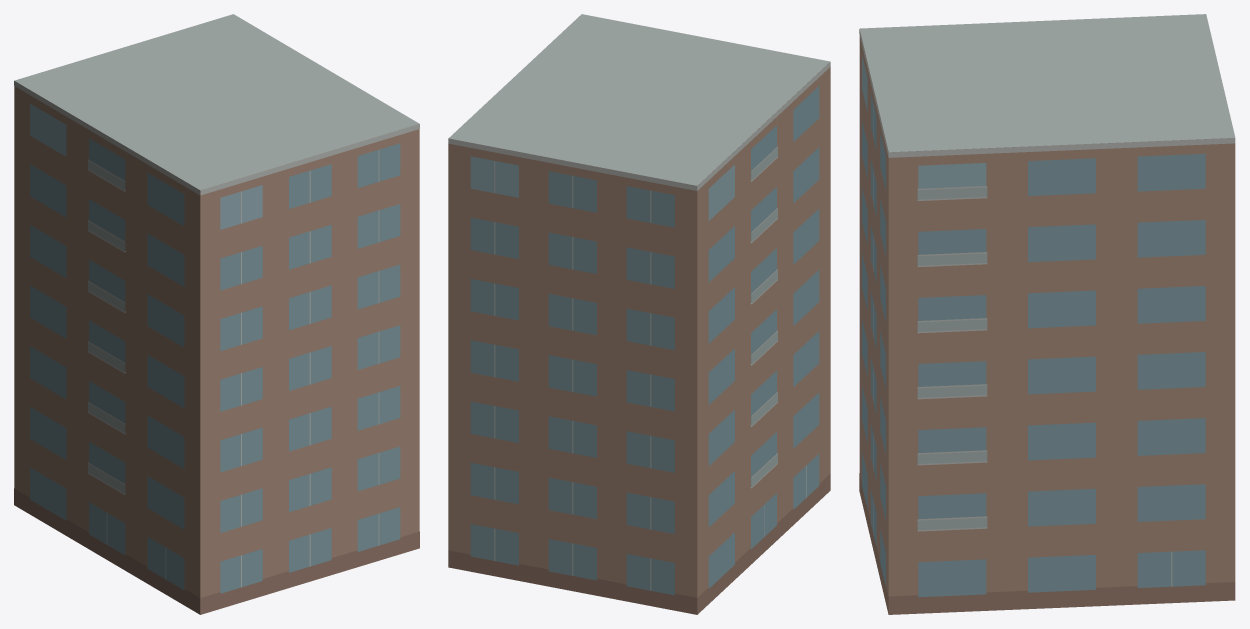
Rendered from survey-upis-32663260.glb.
3 views of the same model, side by side, from view 1: azimuth 30°, elevation 25°; view 2: azimuth 150°, elevation 25°; view 3: azimuth 270°, elevation 25° (orthographic). The views are drawn at different scales.
Parts seen in each view (by area): view 1: survey-upis-32663260.tmp; view 2: survey-upis-32663260.tmp; view 3: survey-upis-32663260.tmp.
Boxes of the visible parts, x1=… form: survey-upis-32663260.tmp: x1=14, y1=14, x2=419, y2=614; survey-upis-32663260.tmp: x1=448, y1=14, x2=830, y2=614; survey-upis-32663260.tmp: x1=859, y1=14, x2=1235, y2=614.
Bounding box in the file's own units: 12.96 × 20.2 × 14.89.
